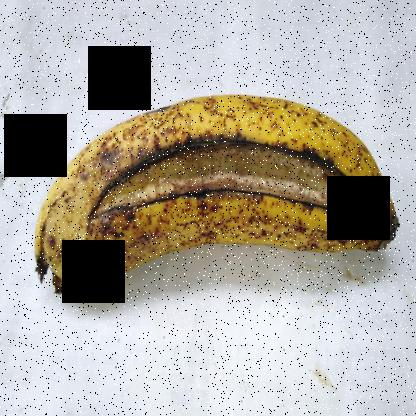rotten: (71, 119, 376, 239), (15, 202, 96, 318)
